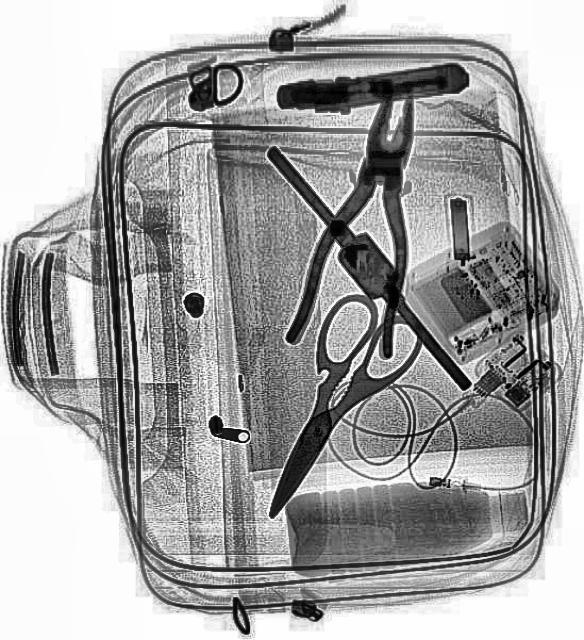Gun: (272, 60, 470, 121)
Pliers: (282, 80, 456, 368)
Scissors: (225, 282, 431, 540)
